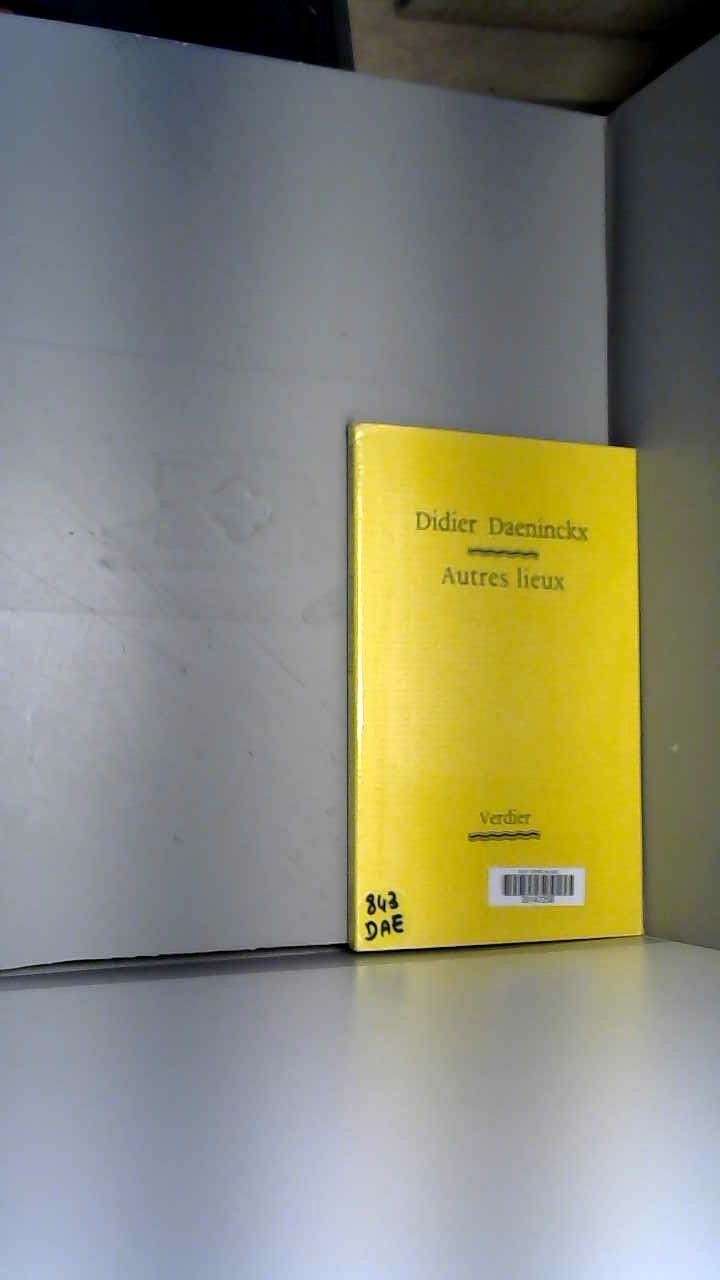book: (299, 384, 690, 993)
